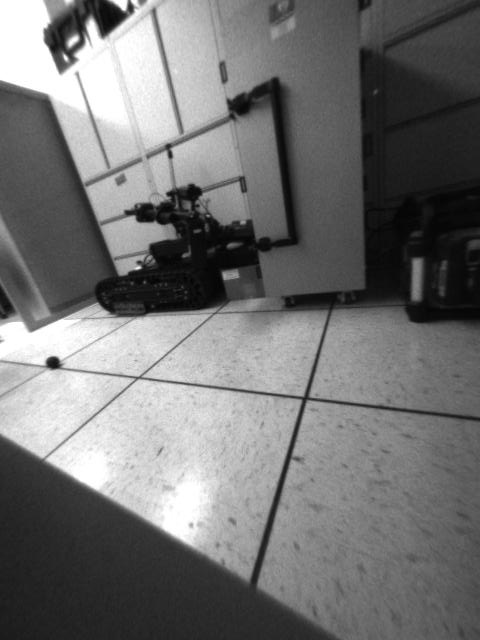dogtoy: (37, 346, 67, 377)
